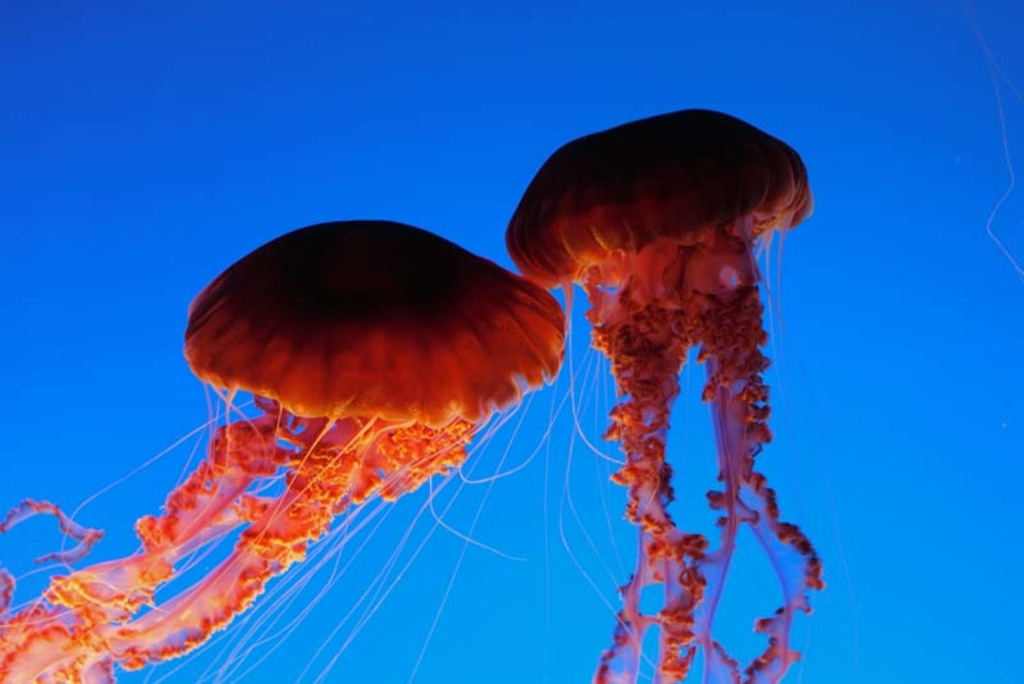Jellyfish: (32, 210, 610, 659), (508, 105, 840, 682)
